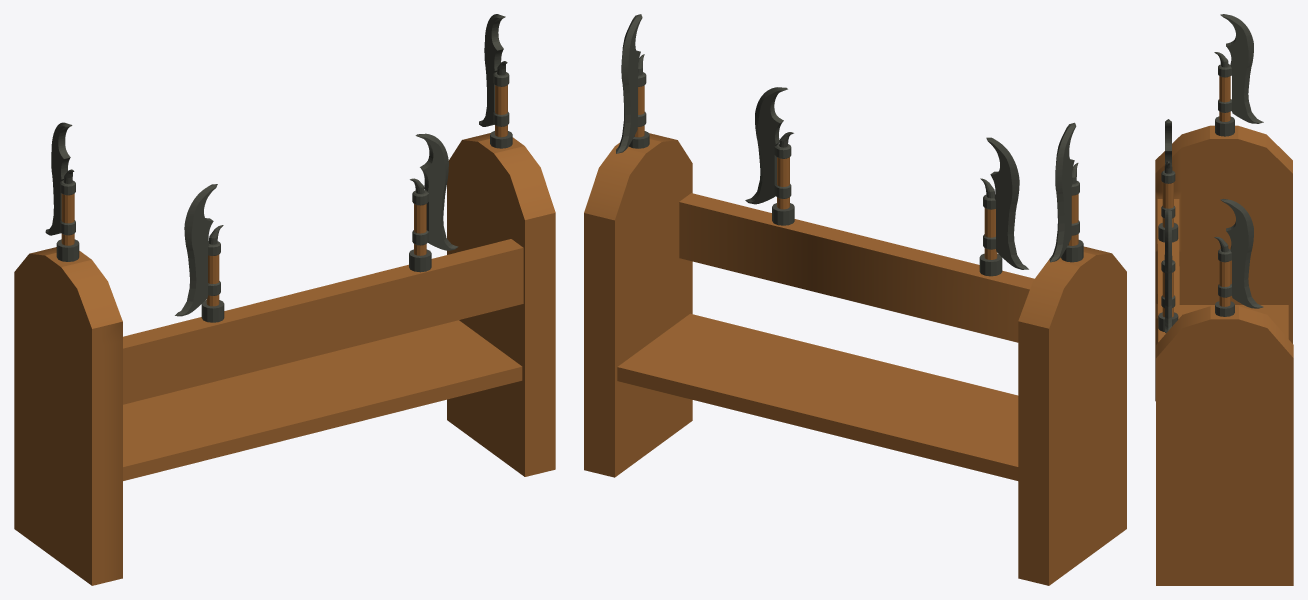
The model's file is banco.fbx.
3 renders of one model, left to right at view 1: azimuth 30°, elevation 25°; view 2: azimuth 150°, elevation 25°; view 3: azimuth 270°, elevation 25°, orthographic. The views are drawn at different scales.
Parts seen in each view (by area): view 1: Cube.008; view 2: Cube.008; view 3: Cube.008.
Boxes of the visible parts, bbox=[...] form: Cube.008: bbox=[14, 14, 555, 585]; Cube.008: bbox=[584, 14, 1126, 585]; Cube.008: bbox=[1155, 14, 1293, 585].
Size of the model in its own units: 255 by 227 by 74.5.
